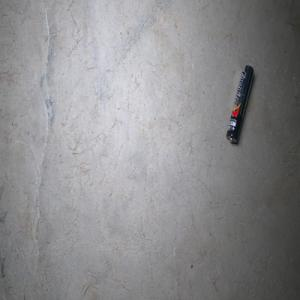Battery: (226, 64, 254, 143)
